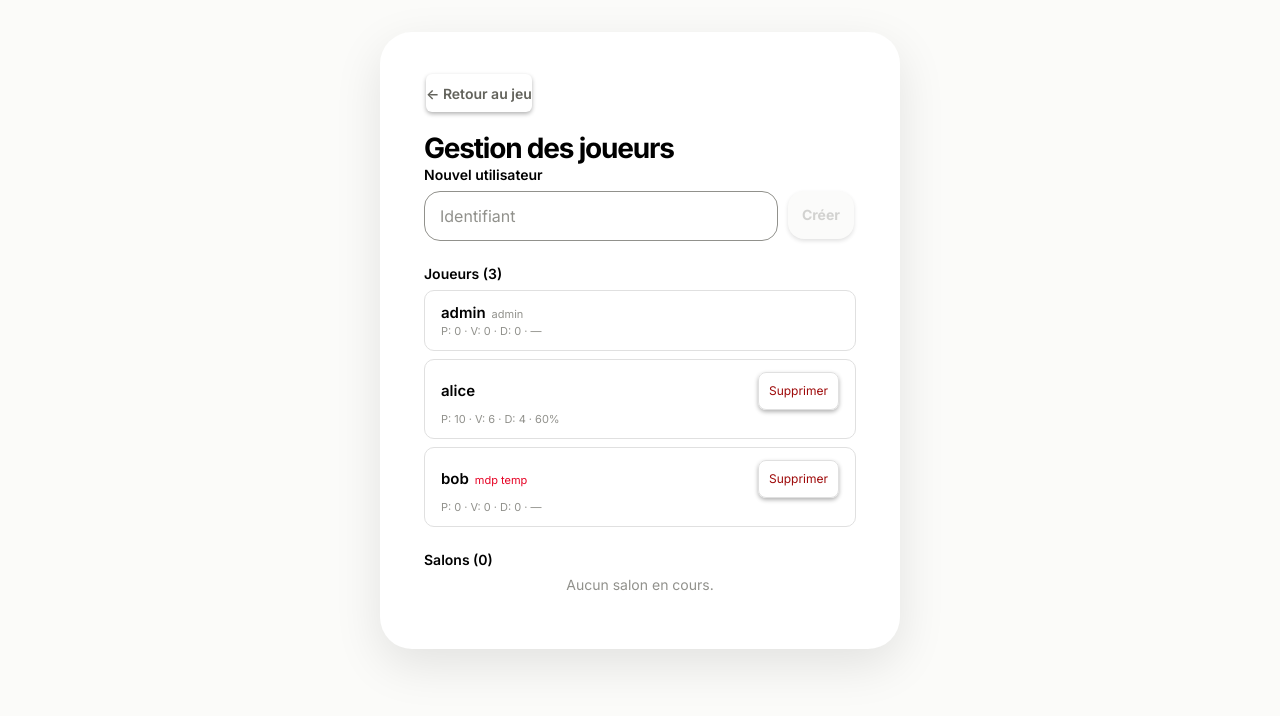
Test case: AdminPanel › crée un utilisateur et affiche le mot de passe temporaire
expect the text "alice" is shown: met, box [441,381,475,400]
In the field with placeholder "Identifiant": (601, 216) [424,191,778,241], type "nouveau"
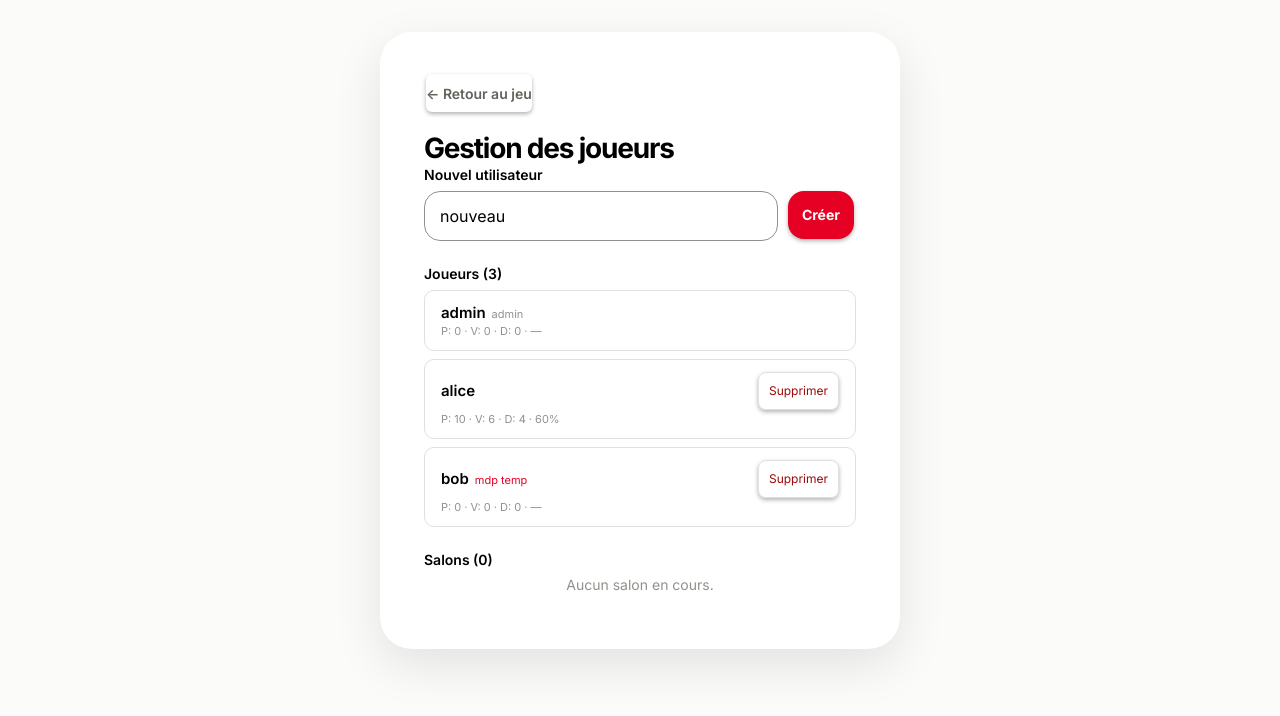
Click the button "Créer": (821, 215) [788,191,854,239]
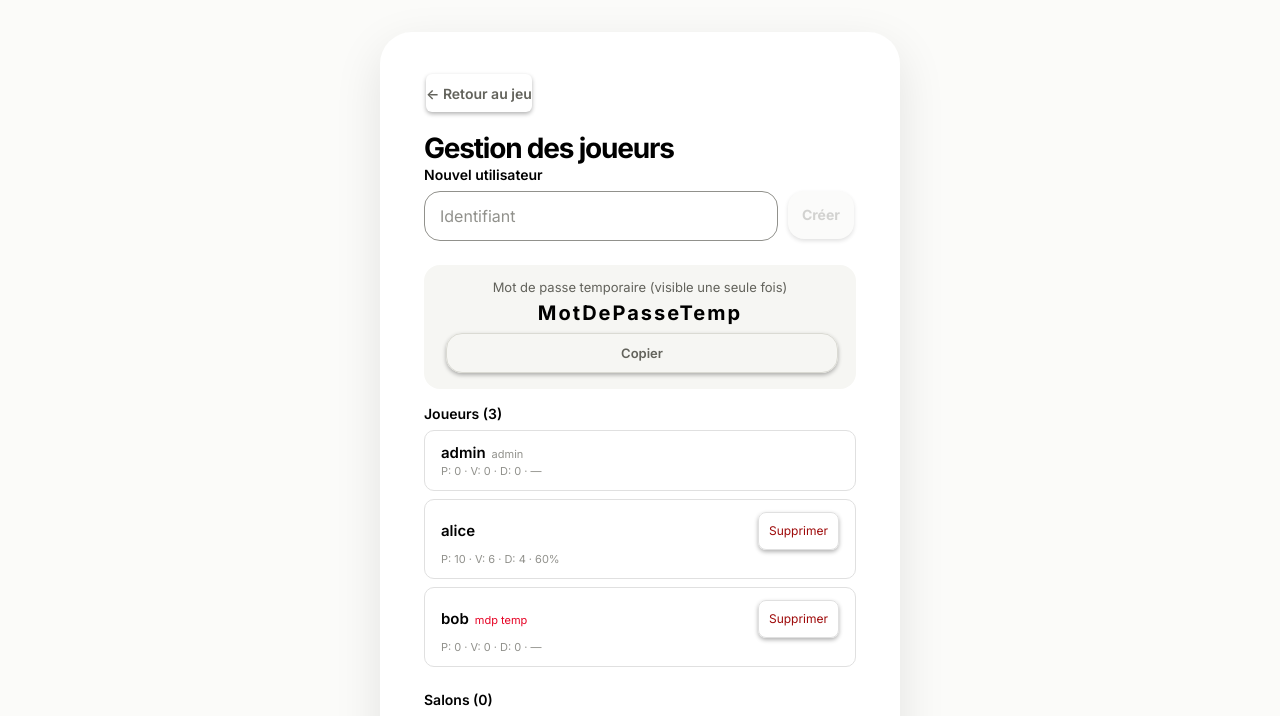
expect the text "MotDePasseTemp" is shown: met, box [538,301,742,325]
